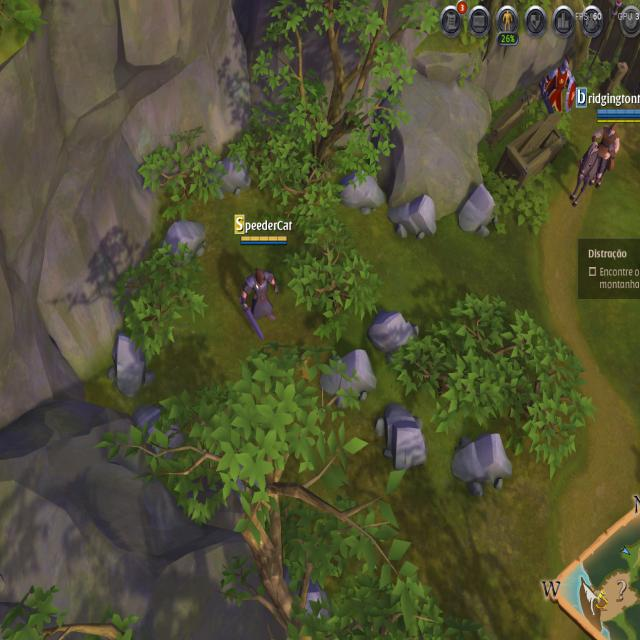stone: (451, 426, 514, 499), (374, 398, 430, 476), (318, 343, 380, 407), (106, 331, 154, 401), (455, 175, 503, 242), (335, 163, 387, 218), (384, 190, 439, 242), (366, 307, 422, 358), (203, 147, 254, 202), (159, 213, 209, 268)
